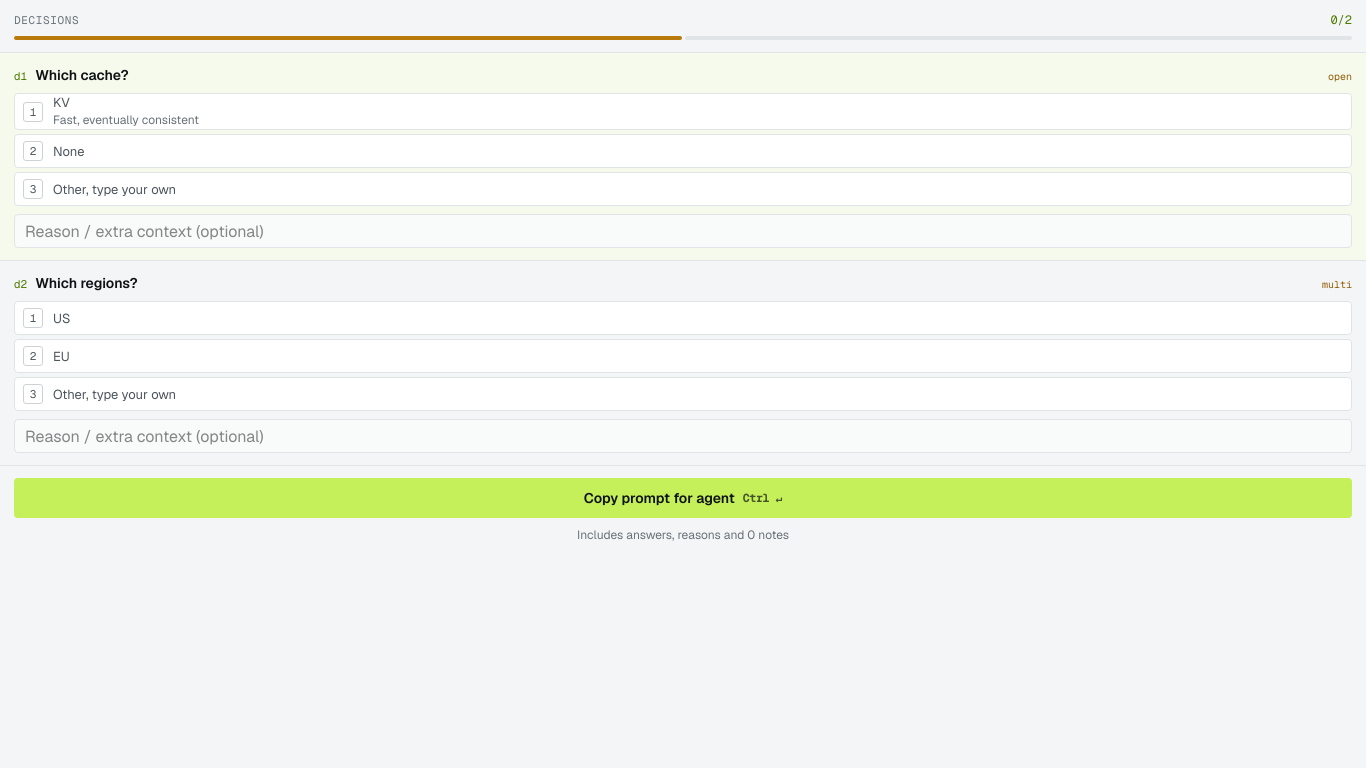
Test: DecisionDock › single-select: a radiogroup; picking an option checks it and bumps the answered count
This screenshot has width=1366, height=768.
Click the radio button labelled "1 KV Fast, eventually consistent" at coordinates (126, 120), box [14,93,1352,130]
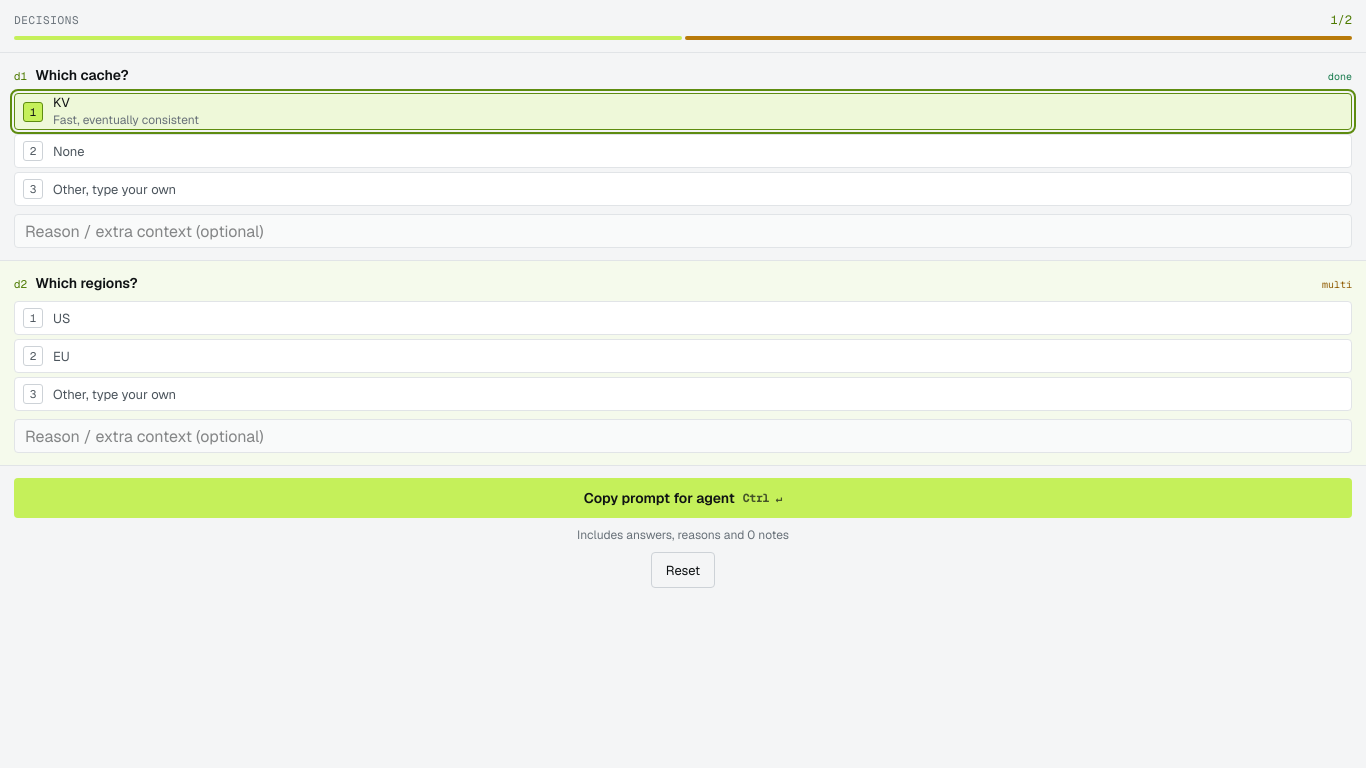
Expected: the text "1/2" is shown, [1330,12,1352,28]
